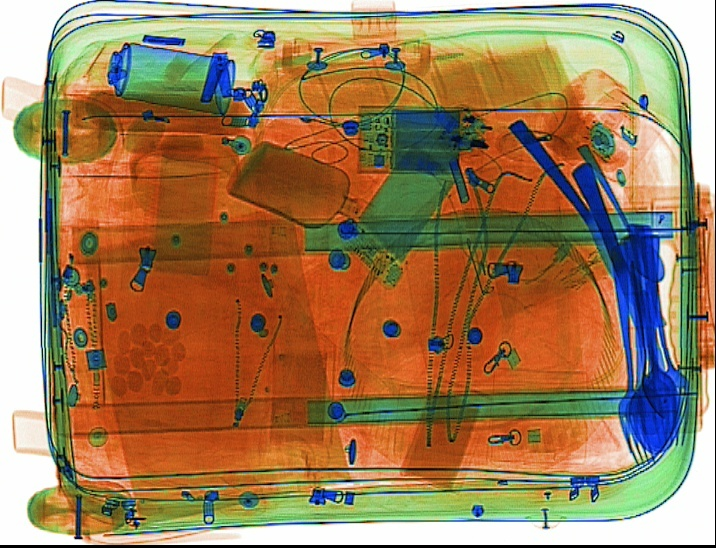powerbank: (354, 98, 464, 176)
pressure: (99, 38, 238, 116)
